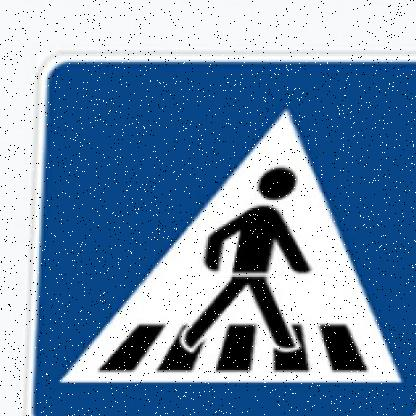Pedestrian Crossing: (25, 32, 416, 416)
